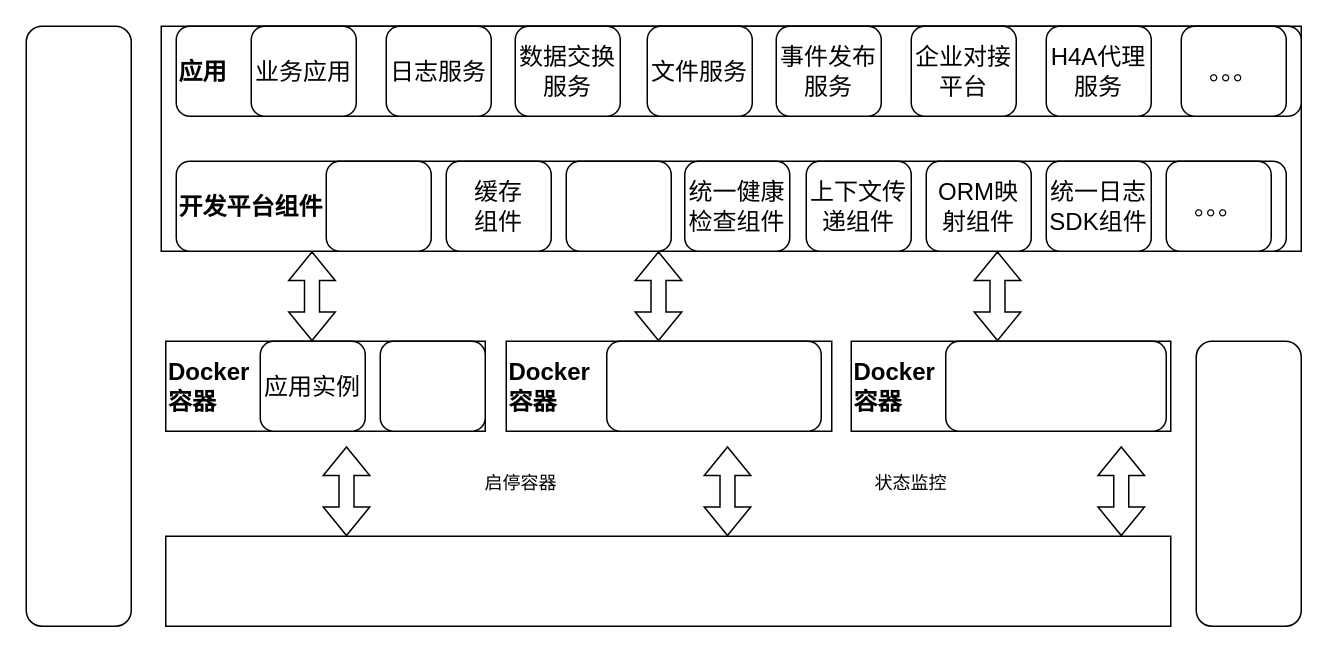
This 1328x653 diagram has some shape labels left out. The shapes that lost their labels are listed below. From the top down, each one's centre as x and y in pixels, then its label:
At point 378,205: "数据源 组件".
At point 618,205: "配置文件 访问组件".
At point 78,325: "持 续 集 成 | 编 译 打 包 部 署".
At point 432,385: "日志采集进程".
At point 713,385: "ELK日志支持".
At point 1055,385: "Consul 服务注册中心 应用配置中心".
At point 1248,483: "镜 像 仓 库".
At point 667,580: "K8S 集群".
